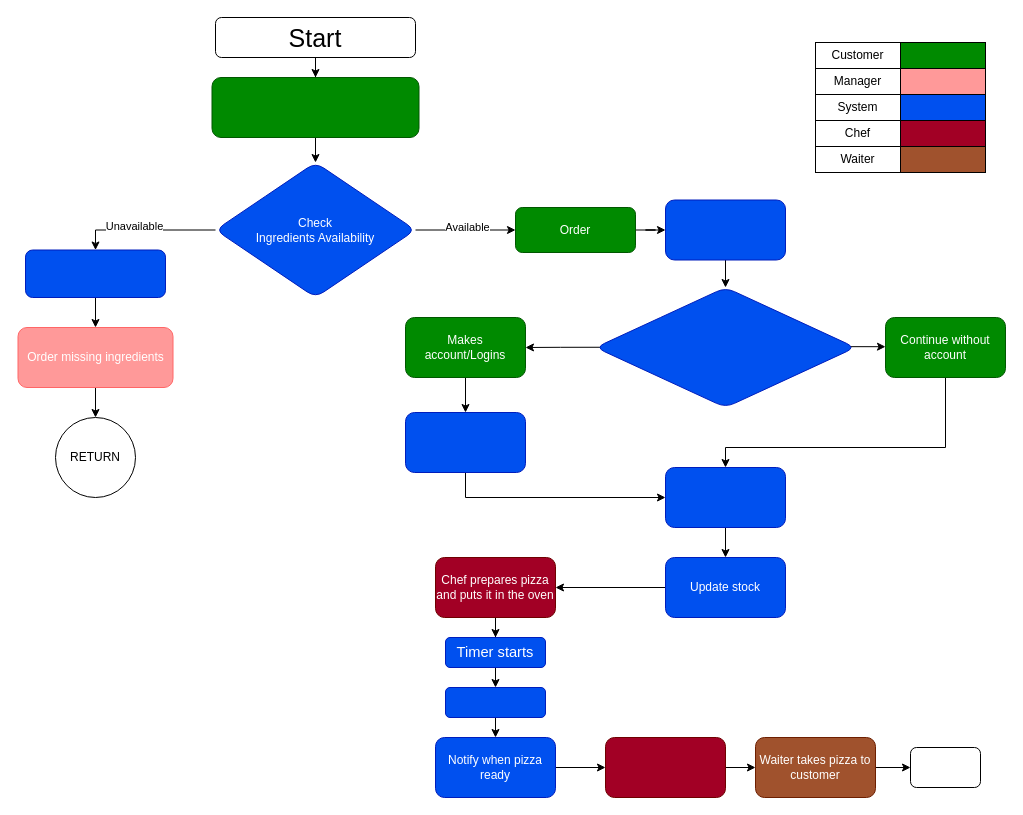
The diagram is 1023 pixels wide and 815 high, and some of its shapes have lost their labels. Here are the shapes that lost their labels. From the top down, the centre of each, then its label:
At [315,107]: "Scan QR Code to Access Menu".
At [725,229]: "Verify Customer Identity".
At [95,273]: "Notify Pizza Not in Stock".
At [725,347]: "Offer customer the possibility to make an account".
At [465,442]: "Add 10% discount to the order".
At [725,497]: "Forward Order to Kitchen".
At [495,702]: "Timer ends".
At [665,767]: "Chef takes pizza out and plates/packages it".
At [945,767]: "END".
